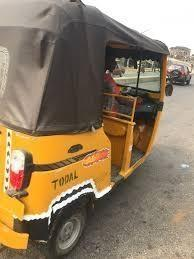keke: (0, 1, 175, 258)
